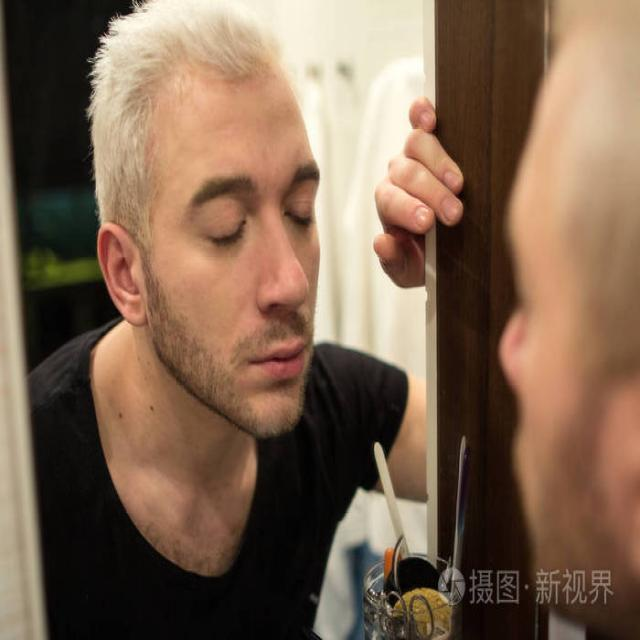Closed: (200, 206, 249, 252), (282, 194, 316, 231)
